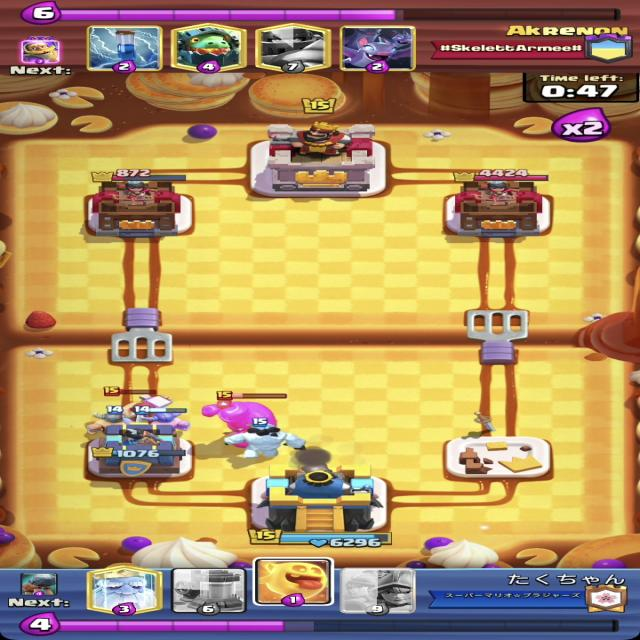Enemy-ElixirGolem: (200, 390, 288, 449)
Enemy-Lumberjack: (101, 386, 175, 422)
Player-EliteBarbarian: (134, 404, 194, 442), (86, 405, 143, 439)
Player-IceGolem: (222, 416, 309, 461)
